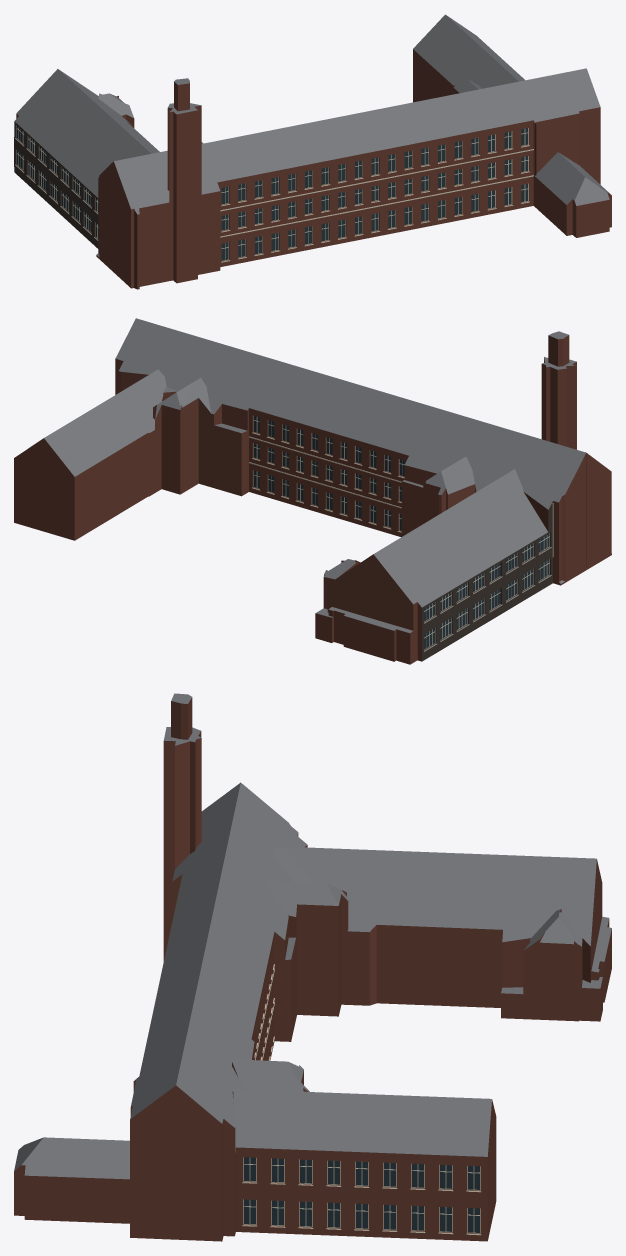
Rendered from recipe-large-vossius.glb.
The picture shows the model from 3 angles, top to bottom: view 1: azimuth 30°, elevation 25°; view 2: azimuth 150°, elevation 25°; view 3: azimuth 270°, elevation 25°; orthographic projection. The views are drawn at different scales.
Visible parts, largest first — view 1: vossius; view 2: vossius; view 3: vossius.
Part boxes in pixels (x1,y1,x2,y2): vossius: (14, 14, 611, 289); vossius: (14, 318, 611, 664); vossius: (14, 693, 611, 1241).
Size of the model in its own units: 80.35 by 32.9 by 66.03.
